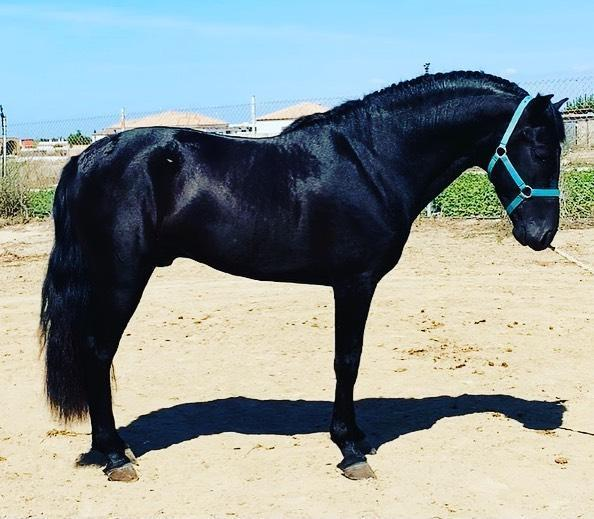horse: (36, 68, 569, 483)
